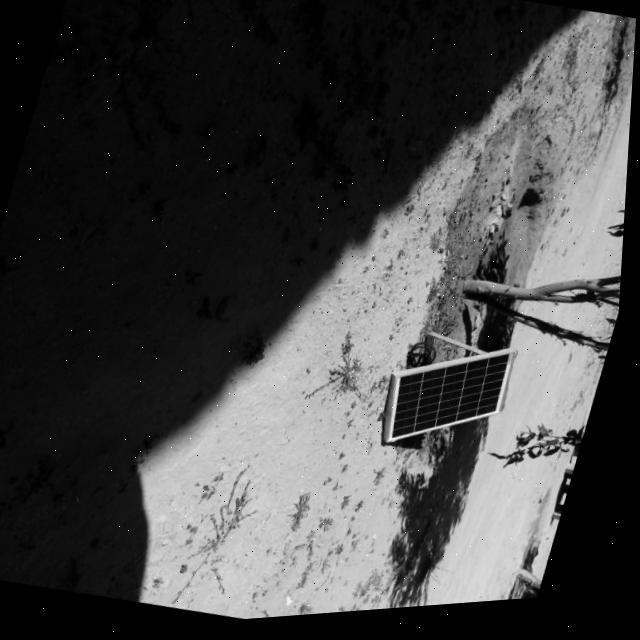Normal Solar Panel: (380, 334, 522, 472)
